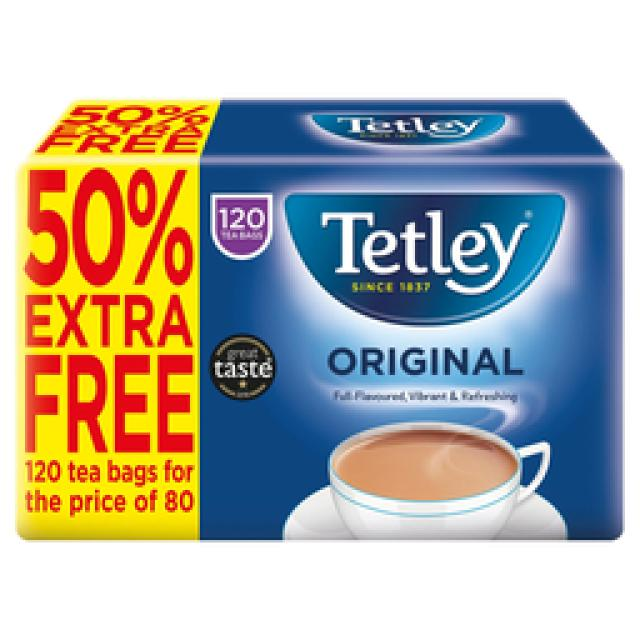tea-bags: (18, 100, 620, 535)
